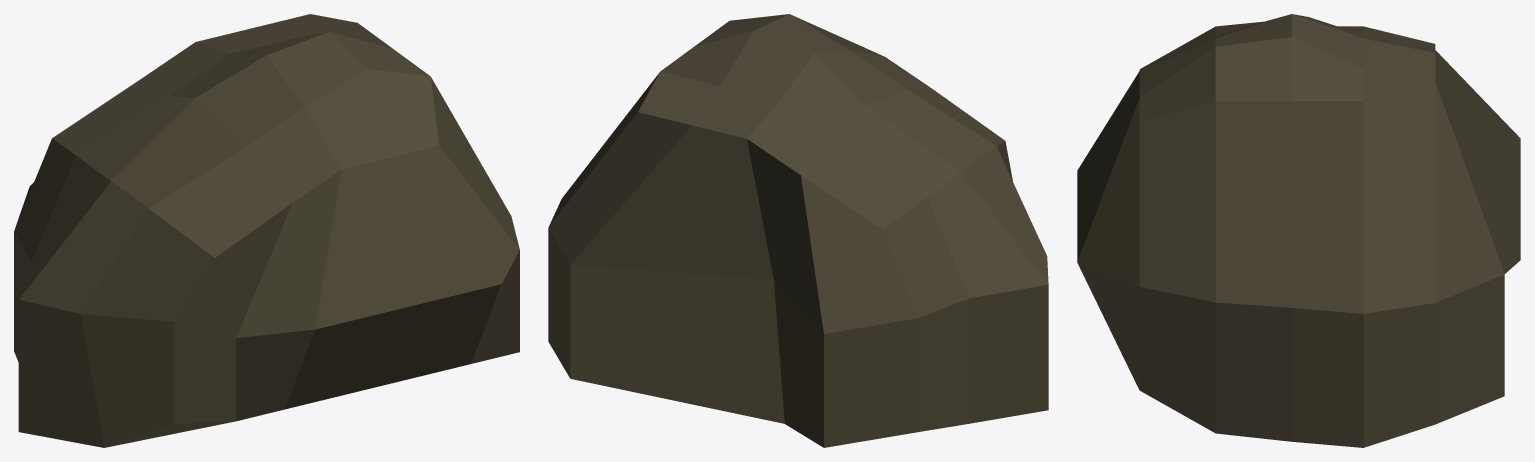
File: rock1.fbx
The picture shows the model from 3 angles, left to right: view 1: azimuth 30°, elevation 25°; view 2: azimuth 150°, elevation 25°; view 3: azimuth 270°, elevation 25°; orthographic projection. The views are drawn at different scales.
Parts seen in each view (by area): view 1: Rock.001; view 2: Rock.001; view 3: Rock.001.
Part boxes in pixels (left/top/right/bottom): Rock.001: left=14, top=14, right=519, bottom=447; Rock.001: left=548, top=14, right=1048, bottom=447; Rock.001: left=1077, top=14, right=1520, bottom=447.
Size of the model in its own units: 378 by 260 by 300.
